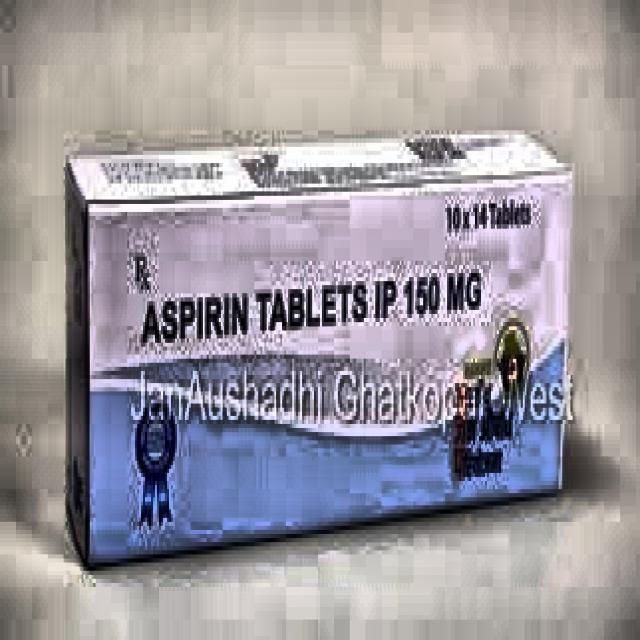Aspirin: (88, 181, 573, 565)
